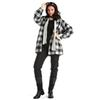giacca: (34, 6, 72, 56)
jeans: (34, 42, 59, 93)
